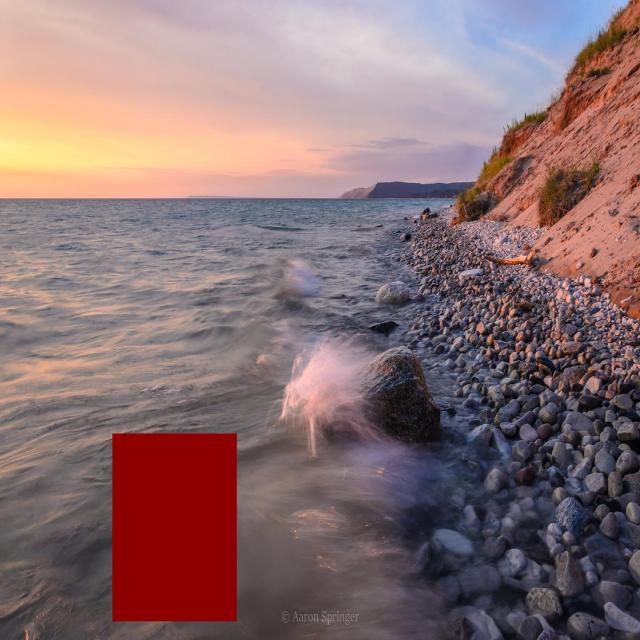RedSquare: (106, 424, 241, 630)
